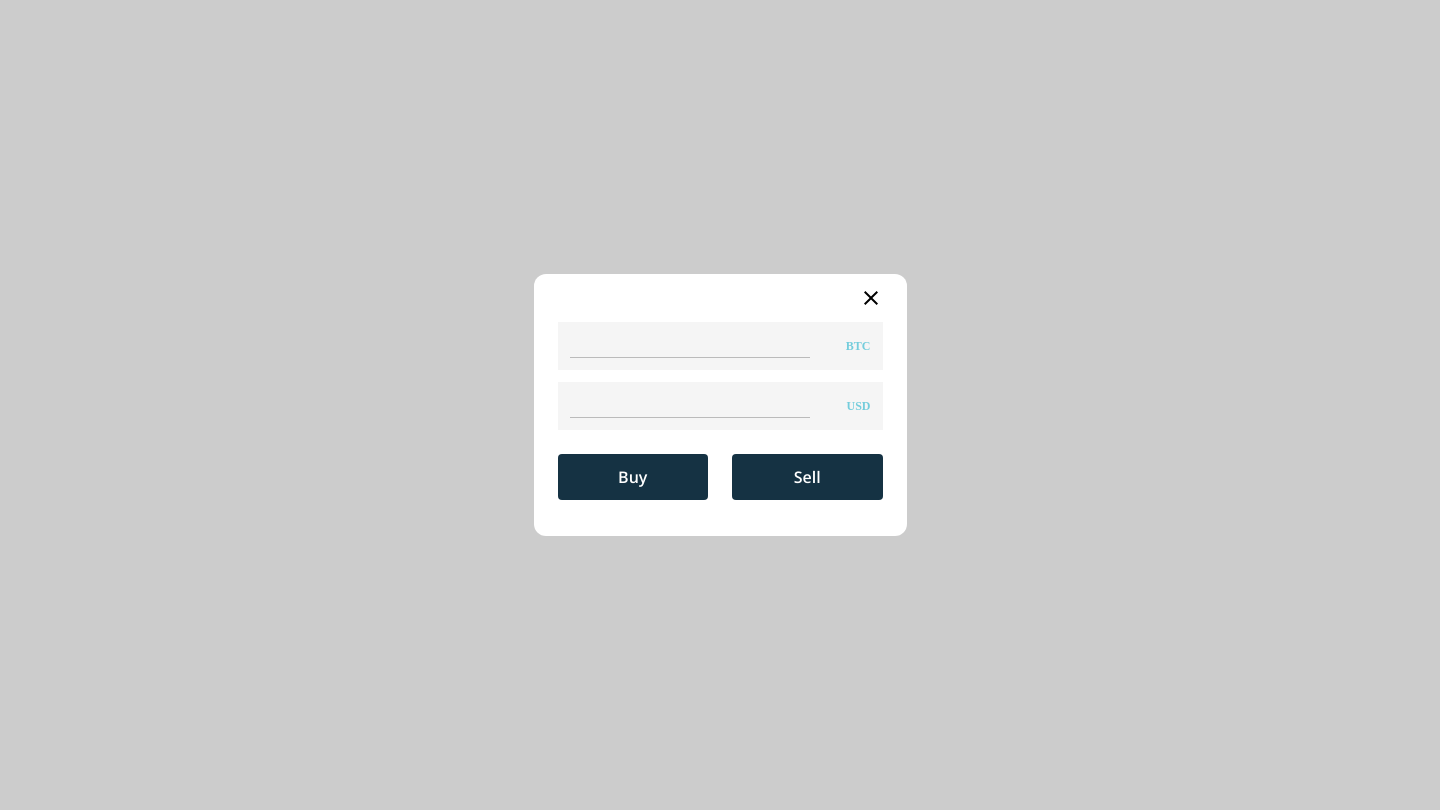
Test: TradeModal › Display error when BTC input is bigger than balance and user tries to sell
The image size is (1440, 810).
Type "0.11342279" into the field labelled "BTC".
click(690, 346); type("0.11342279")  # box [570,334,810,358]
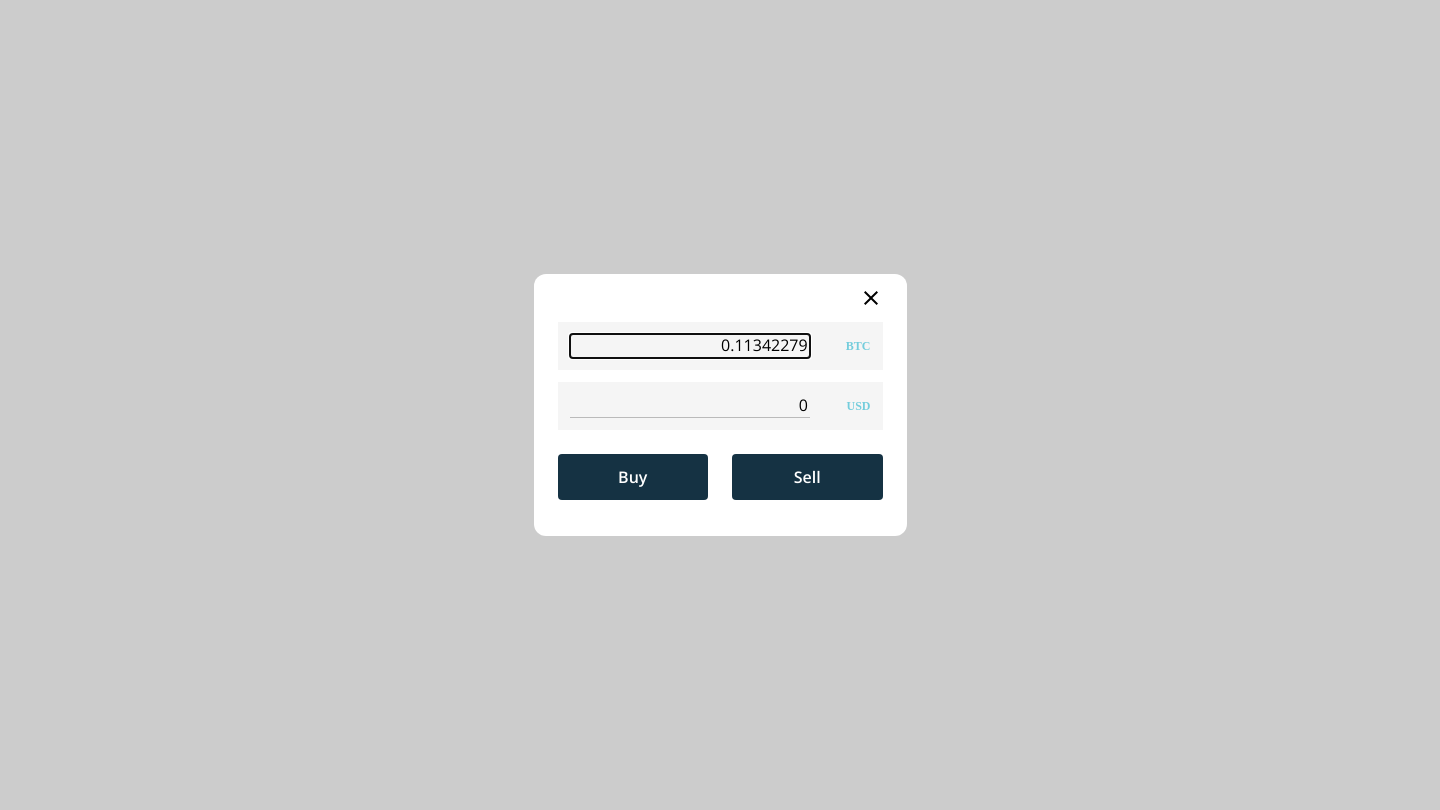
Click the button "Sell".
click(807, 477)  # box [732,454,882,500]
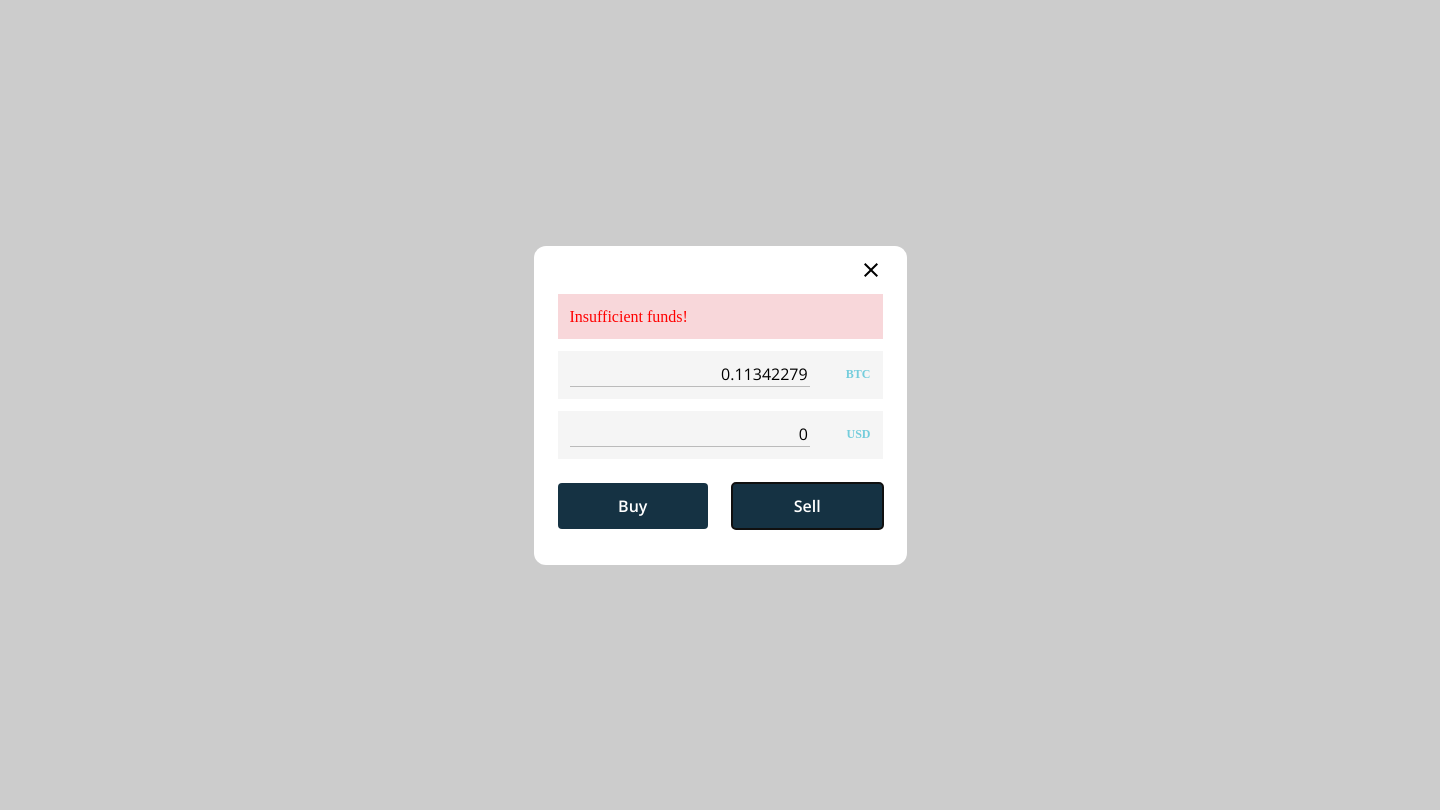
Expected: the text "Insufficient funds!" is shown, [558,294,882,338]
